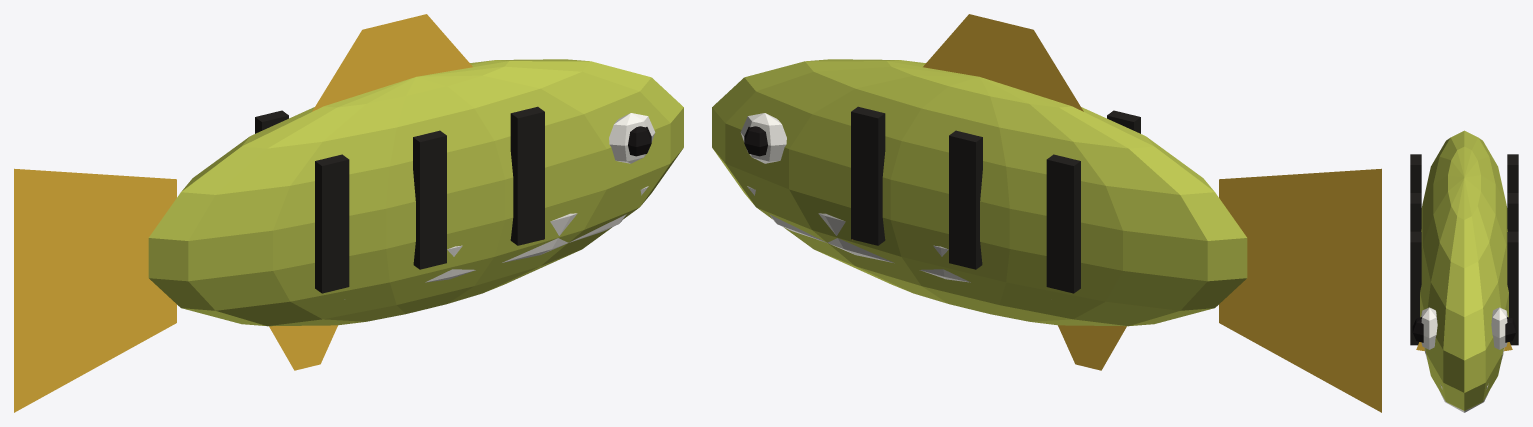
The model's file is fish_tucunare.obj.
3 renders of one model, left to right at view 1: azimuth 30°, elevation 25°; view 2: azimuth 150°, elevation 25°; view 3: azimuth 270°, elevation 25°, orthographic. The views are drawn at different scales.
Parts seen in each view (by area): view 1: fish; view 2: fish; view 3: fish.
Boxes of the visible parts, left/top/right/bottom form: fish: left=14, top=14, right=683, bottom=412; fish: left=712, top=14, right=1381, bottom=412; fish: left=1410, top=130, right=1518, bottom=412.
Bounding box in the file's own units: 0.6655 × 0.308 × 0.1154.
